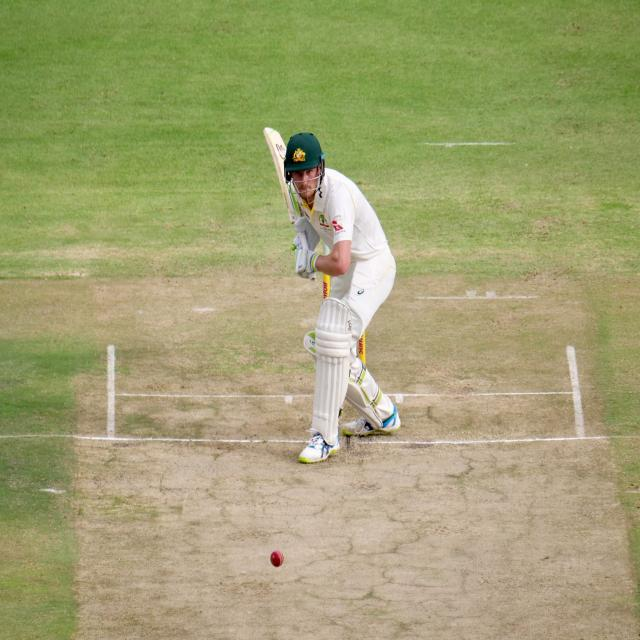ball: (270, 550, 284, 571)
stump: (354, 334, 369, 366), (323, 273, 331, 302)
